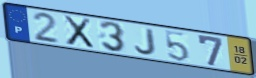2: (31, 12, 60, 45)
3: (97, 21, 128, 54)
5: (163, 29, 192, 63)
7: (195, 33, 224, 68)
J: (133, 27, 158, 56)
X: (62, 14, 96, 50)
